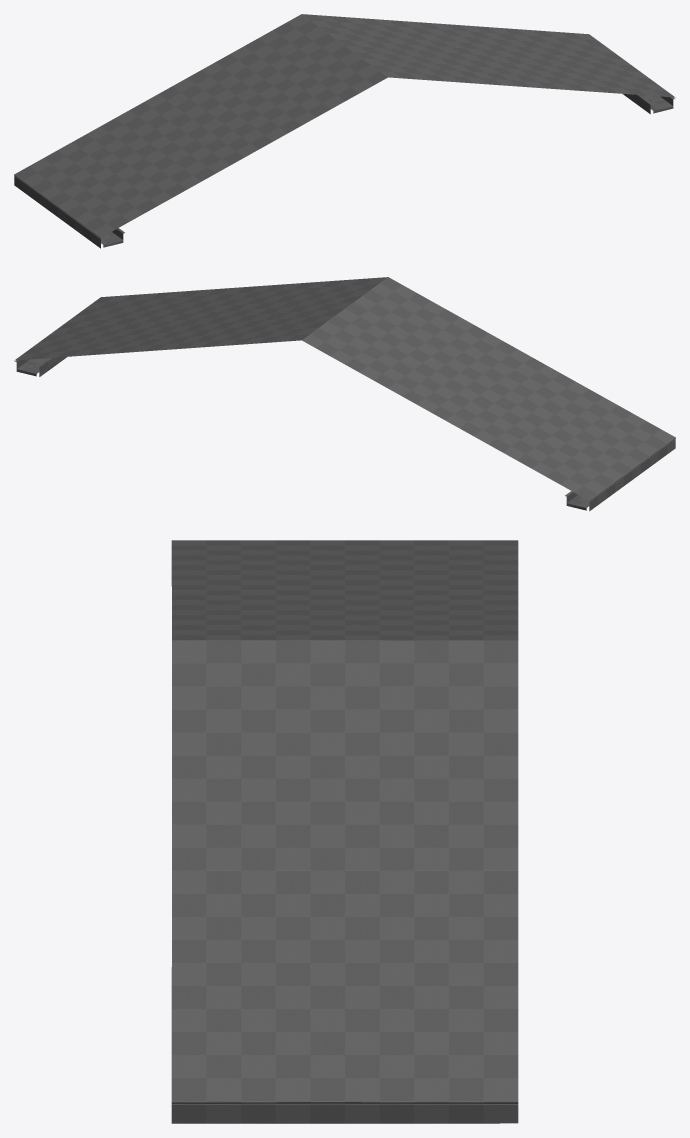
Rendered from SM_House_Roof_A_Mid2.glb.
3 renders of one model, top to bottom at view 1: azimuth 30°, elevation 25°; view 2: azimuth 150°, elevation 25°; view 3: azimuth 270°, elevation 25°, orthographic. The views are drawn at different scales.
Visible parts, largest first — view 1: SM_House_Roof_A_Mid2; view 2: SM_House_Roof_A_Mid2; view 3: SM_House_Roof_A_Mid2.
Part boxes in pixels (<box>): SM_House_Roof_A_Mid2: <box>14,14,675,248</box>; SM_House_Roof_A_Mid2: <box>14,277,675,511</box>; SM_House_Roof_A_Mid2: <box>171,540,518,1123</box>.
Size of the model in its own units: 1151 by 194 by 300.
Materials: 1 (1 with a texture image).
